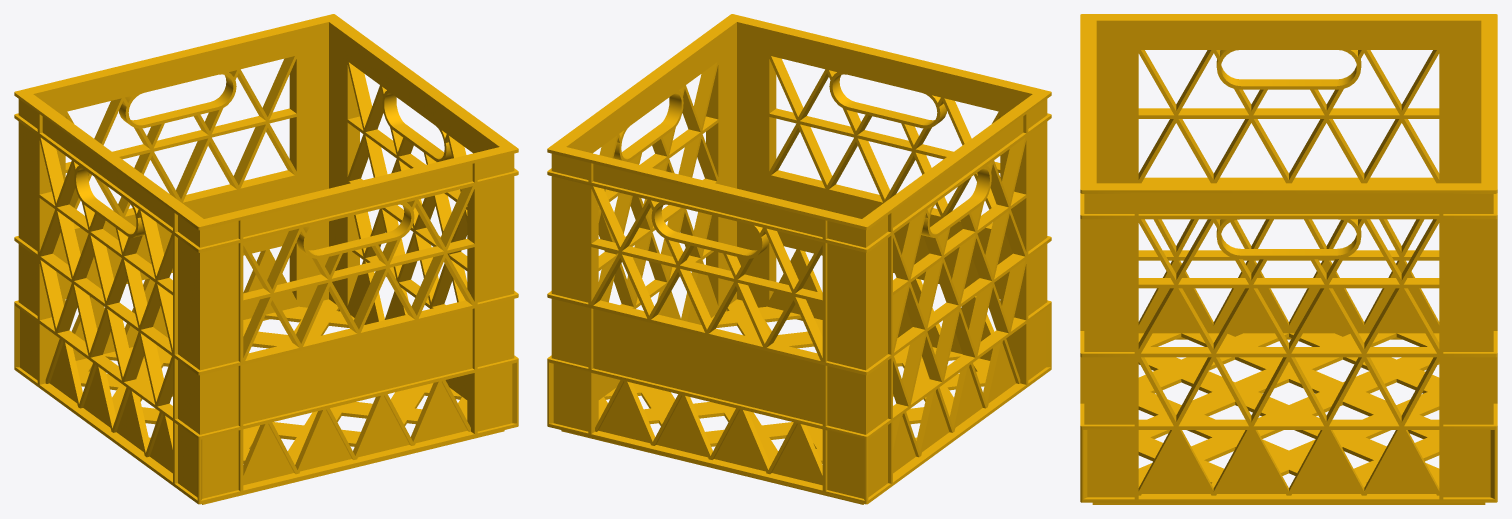
The model's file is Storage Crate.gltf.
The picture shows the model from 3 angles, left to right: view 1: azimuth 30°, elevation 25°; view 2: azimuth 150°, elevation 25°; view 3: azimuth 270°, elevation 25°; orthographic projection. The views are drawn at different scales.
Parts seen in each view (by area): view 1: node-0; view 2: node-0; view 3: node-0.
Part boxes in pixels (x1,y1,x2,y2): node-0: (14,14,518,504); node-0: (547,14,1051,504); node-0: (1080,14,1497,504).
Size of the model in its own units: 13 by 11 by 13.
